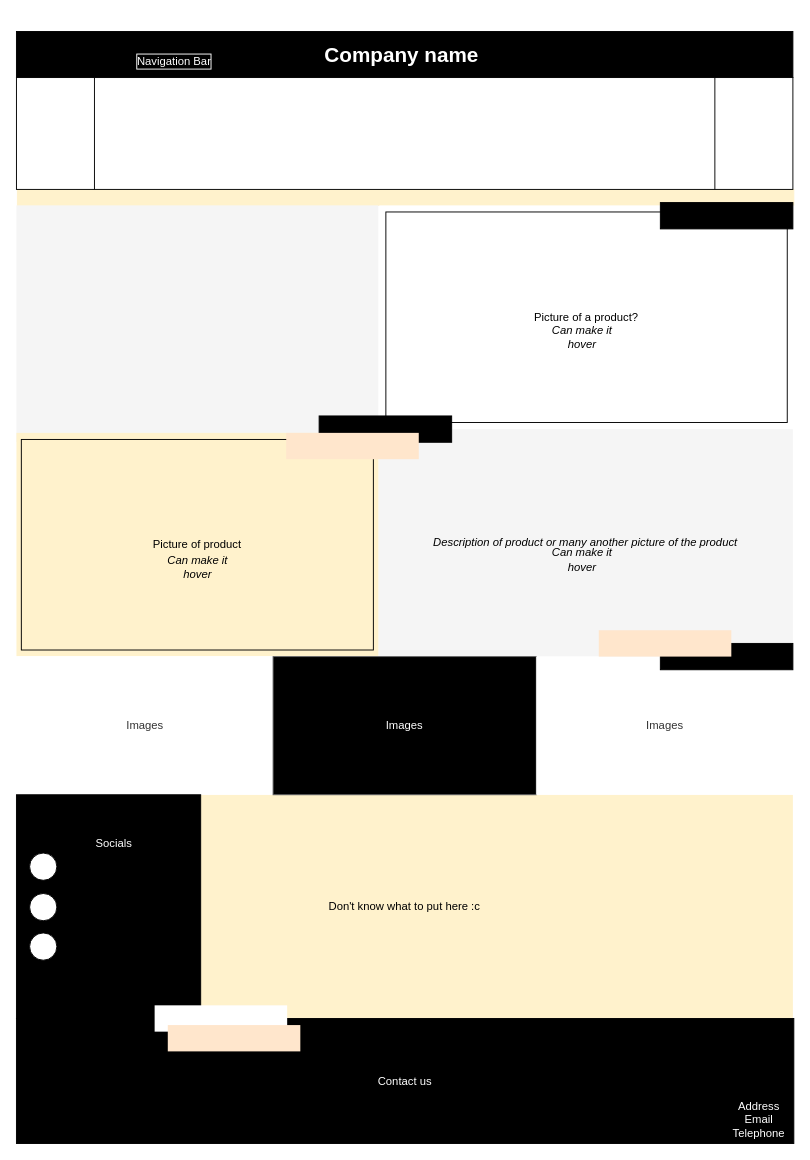
Image size: 810x1160. Some labels were removed from this diagram. Each missing label, with the centre of its shape:
"Description of the product" goes at pixel 197 323.
"Images moving like a slideshow???" goes at pixel 404 133.
